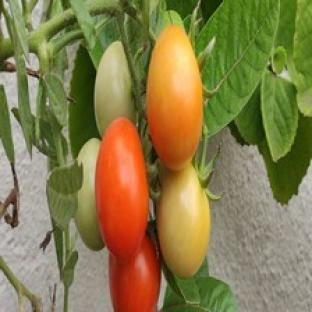Tomato: (147, 26, 203, 169), (97, 117, 149, 259), (156, 165, 210, 278), (109, 236, 161, 311), (95, 41, 135, 136), (76, 138, 103, 250)
